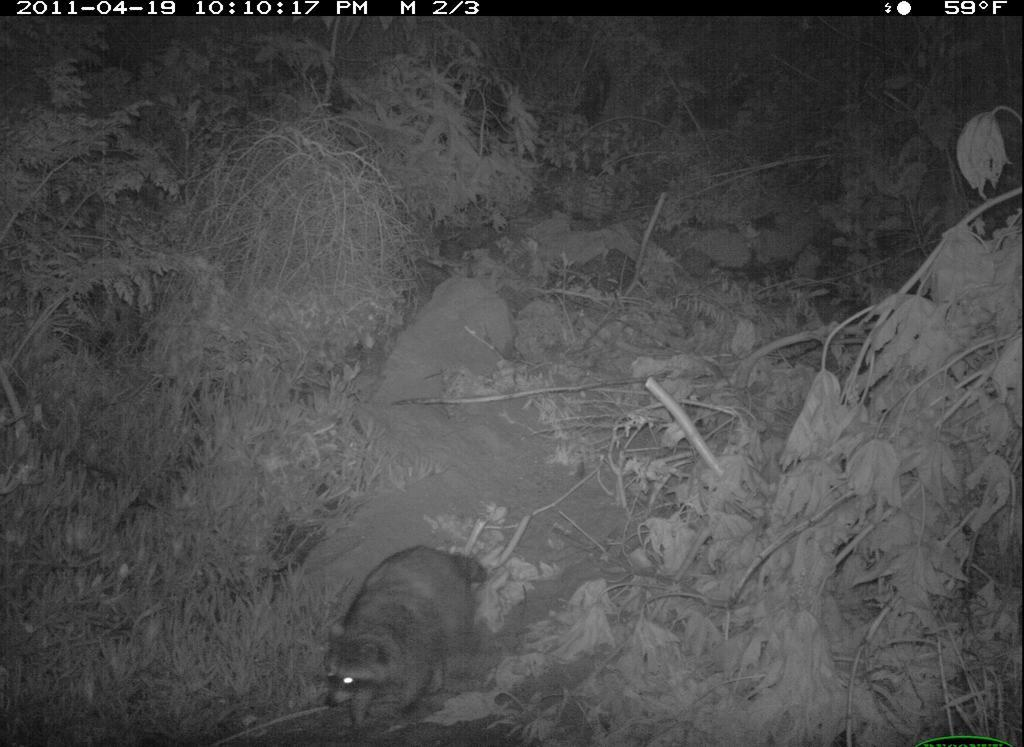raccoon: (324, 543, 492, 738)
